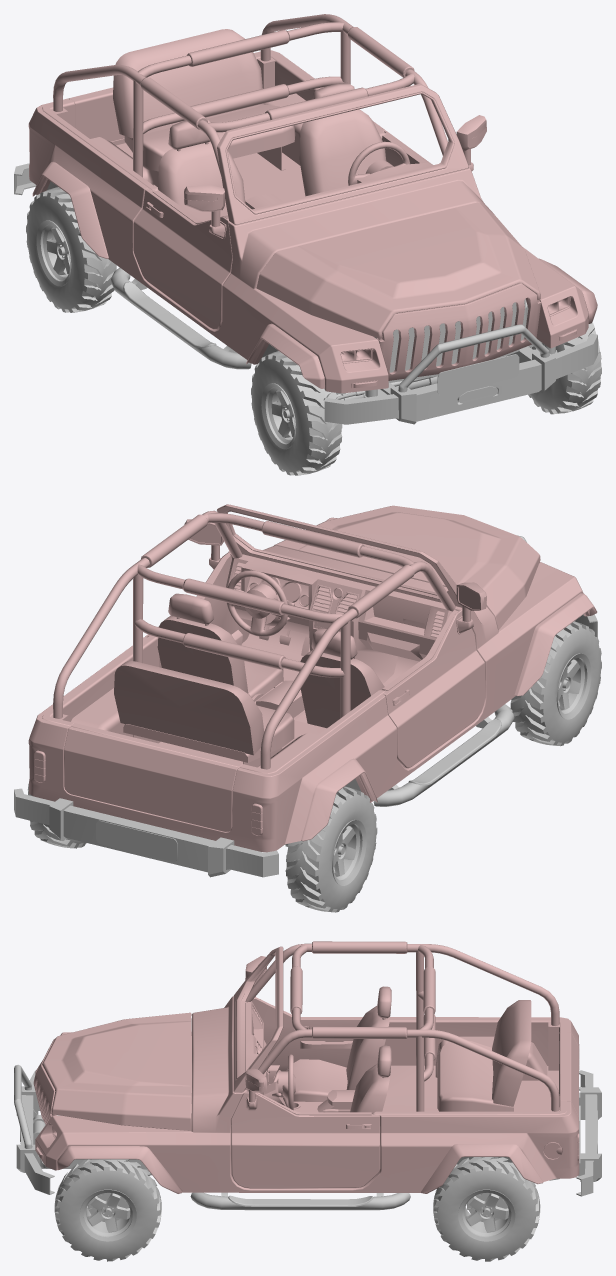
File: Jeep.fbx
The picture shows the model from 3 angles, top to bottom: view 1: azimuth 30°, elevation 25°; view 2: azimuth 150°, elevation 25°; view 3: azimuth 270°, elevation 25°; orthographic projection. The views are drawn at different scales.
Visible parts, largest first — view 1: Gensaeric_4Jeaaep_low, DoorRight, FrontRightWheel, RearRightWheel, FrontLeftWheel, DoorLeft, Cylinder006; view 2: Gensaeric_4Jeaaep_low, DoorRight, RearRightWheel, FrontRightWheel, DoorLeft, Cylinder006, RearLeftWheel; view 3: Gensaeric_4Jeaaep_low, DoorLeft, FrontLeftWheel, RearLeftWheel, DoorRight, Cylinder006.
Boxes of the visible parts, box(x1,y1,x2,y2) form: Gensaeric_4Jeaaep_low: box(14, 14, 597, 424); DoorRight: box(133, 185, 232, 330); FrontRightWheel: box(251, 351, 342, 475); RearRightWheel: box(26, 187, 116, 312); FrontLeftWheel: box(528, 322, 601, 414); DoorLeft: box(382, 115, 486, 171); Cylinder006: box(348, 141, 410, 185); Gensaeric_4Jeaaep_low: box(14, 504, 597, 877); DoorRight: box(382, 582, 486, 768); RearRightWheel: box(285, 786, 377, 912); FrontRightWheel: box(510, 621, 601, 746); DoorLeft: box(145, 519, 242, 667); Cylinder006: box(226, 570, 287, 636); RearLeftWheel: box(27, 783, 86, 848); Gensaeric_4Jeaaep_low: box(14, 941, 601, 1220); DoorLeft: box(231, 1068, 380, 1188); FrontLeftWheel: box(54, 1159, 161, 1261); RearLeftWheel: box(433, 1157, 540, 1261); DoorRight: box(245, 956, 362, 1083); Cylinder006: box(278, 1054, 295, 1110).
Bounding box in the file's own units: 204 × 167 × 407.
